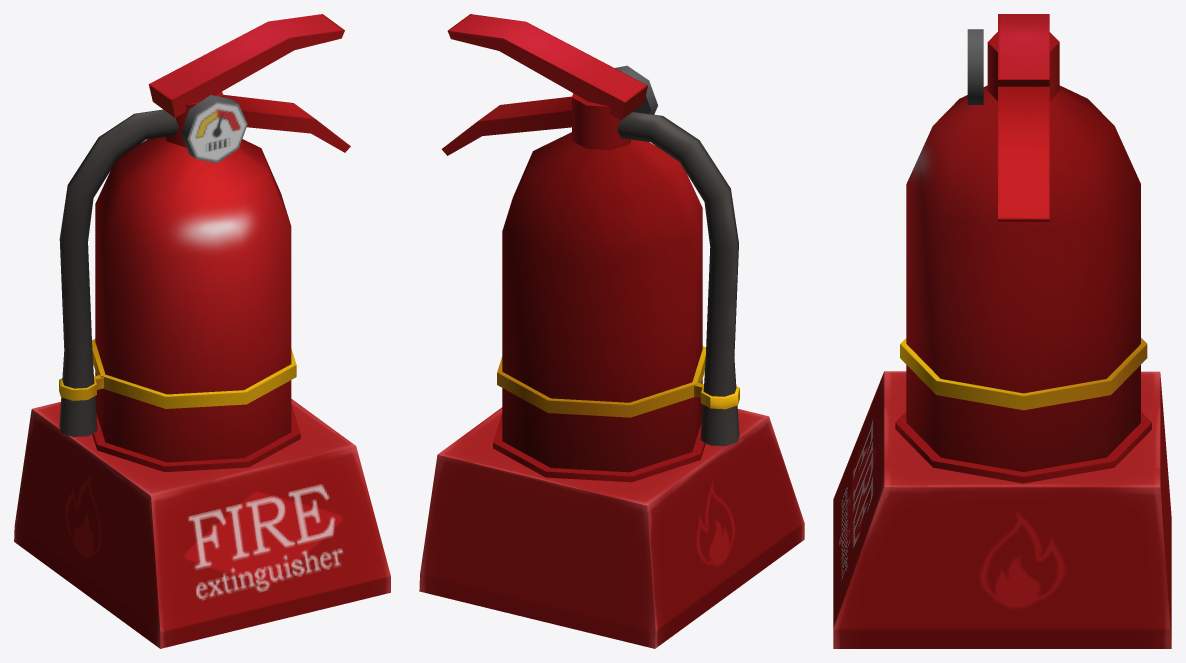
The model's file is corridor_object_fire.FBX.
3 renders of one model, left to right at view 1: azimuth 30°, elevation 25°; view 2: azimuth 150°, elevation 25°; view 3: azimuth 270°, elevation 25°, orthographic. The views are drawn at different scales.
Visible parts, largest first — view 1: Cylinder001; view 2: Cylinder001; view 3: Cylinder001.
Part boxes in pixels (x1,y1,x2,y2): Cylinder001: [14, 14, 390, 648]; Cylinder001: [419, 14, 804, 648]; Cylinder001: [833, 14, 1171, 648].
Bounding box in the file's own units: 255 × 446 × 232.
Materials: 1 (1 with a texture image).
